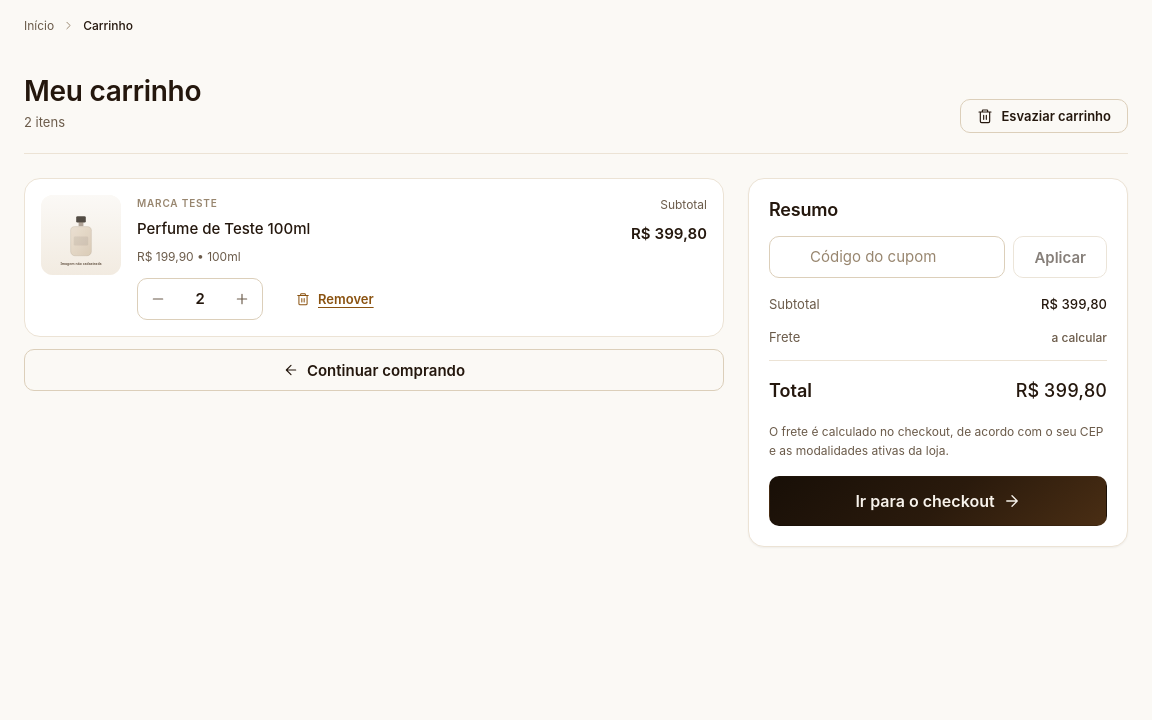
Test: Carrinho › aplica o cupom e exibe o desconto calculado pelo backend
Expected: the button "Aplicar" is shown, x1=1013 y1=236 x2=1107 y2=278
Type "PROMO10" into the field labelled "Código do cupom" at (887, 257), box x1=769 y1=236 x2=1005 y2=278
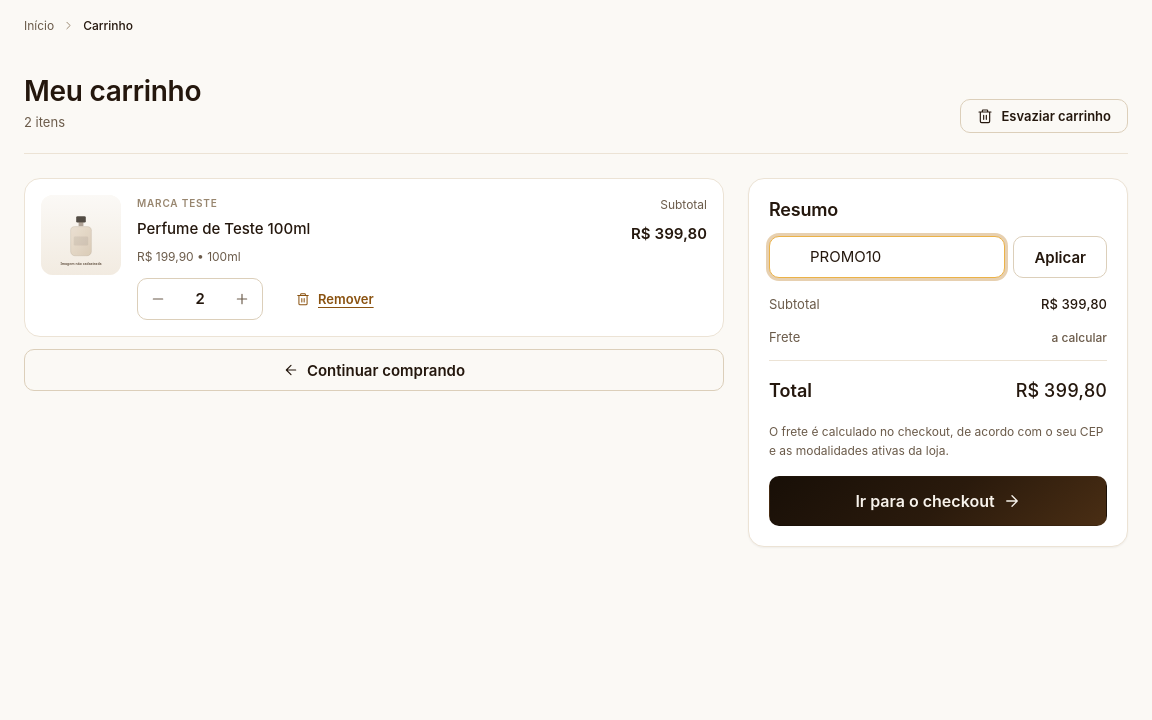
Click the button "Aplicar" at (1060, 257), box x1=1013 y1=236 x2=1107 y2=278
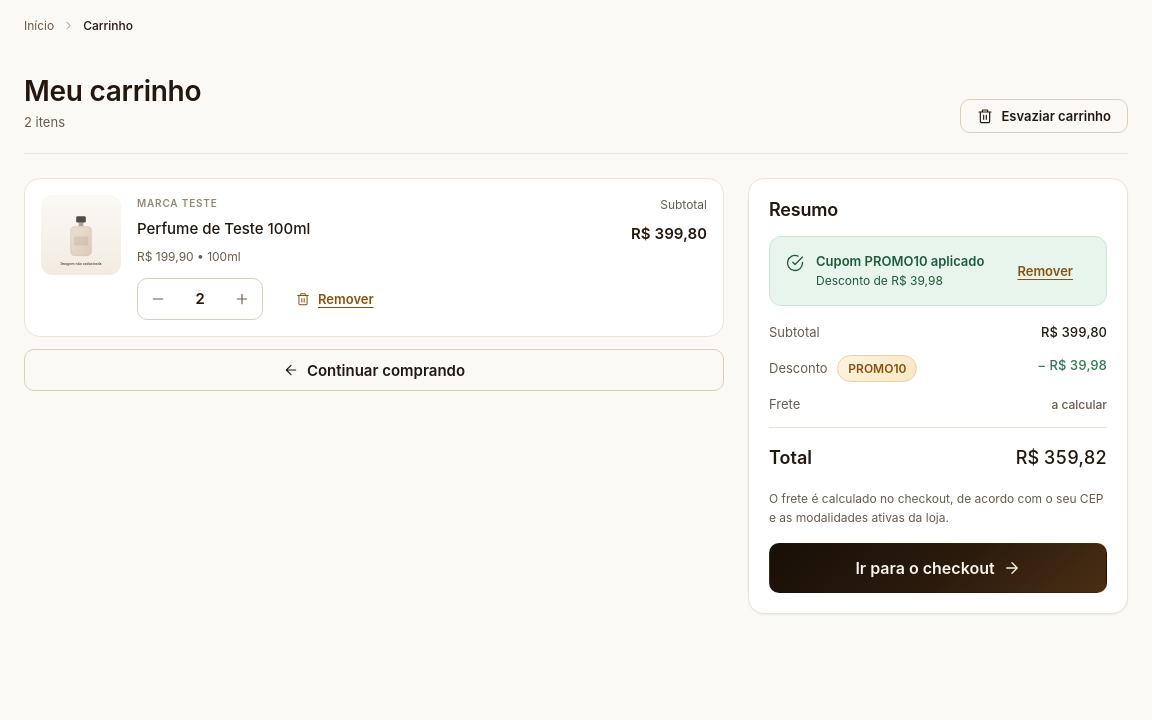
Expected: the text "Cupom PROMO10 aplicado" is shown, x1=816 y1=253 x2=984 y2=271
Expected: the text "Desconto de R$ 39,98" is shown, x1=816 y1=273 x2=943 y2=288
Expected: the text "R$ 359,82" is shown, x1=1016 y1=444 x2=1107 y2=473
